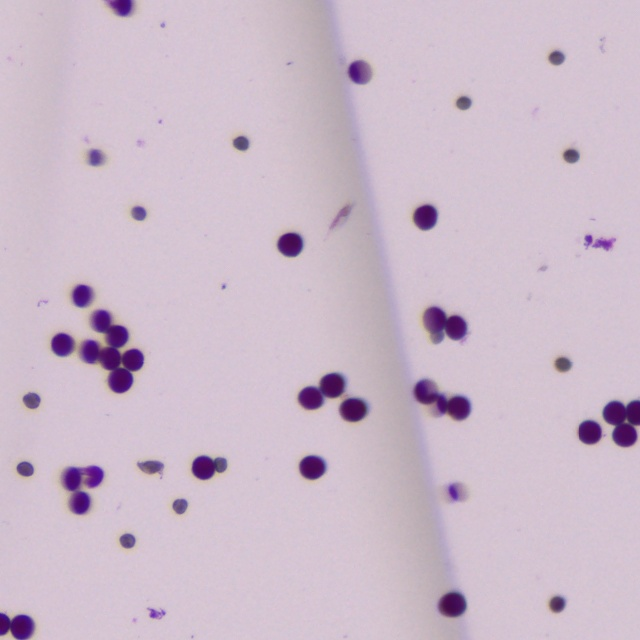intermediate: (444, 482, 468, 501), (88, 149, 104, 165), (131, 206, 146, 220)
non_viable: (23, 393, 40, 408), (119, 533, 135, 548), (554, 357, 571, 371), (548, 50, 564, 64), (233, 136, 248, 150), (213, 457, 227, 472), (456, 96, 471, 109)
viable: (425, 308, 445, 340), (439, 592, 465, 616), (299, 456, 325, 479), (415, 381, 443, 402), (413, 204, 436, 229), (278, 233, 302, 256), (51, 333, 74, 355), (341, 399, 365, 420), (10, 616, 32, 638), (98, 347, 120, 369), (347, 61, 369, 83), (110, 368, 131, 391), (320, 375, 343, 396), (193, 457, 216, 478), (579, 421, 600, 442), (605, 403, 627, 423), (107, 325, 127, 347), (299, 388, 322, 407), (448, 397, 468, 418), (614, 424, 635, 444), (446, 316, 465, 337), (81, 467, 102, 485), (121, 350, 141, 368), (70, 492, 88, 512), (73, 286, 91, 305), (63, 468, 79, 488), (626, 400, 639, 424), (93, 311, 109, 330), (82, 342, 97, 360), (16, 461, 33, 476), (172, 498, 187, 513), (1, 615, 9, 632)
